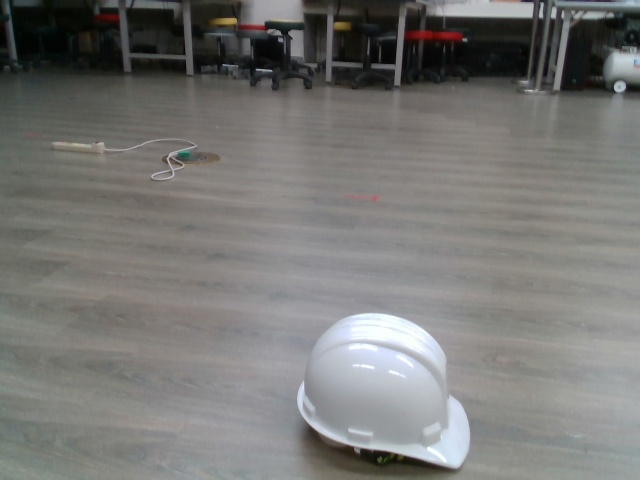helmet: (295, 309, 472, 475)
